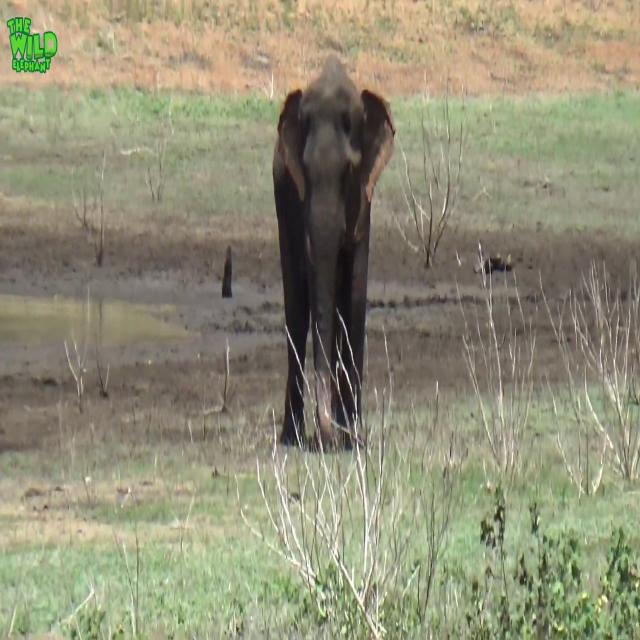Elephant: (272, 53, 396, 454)
